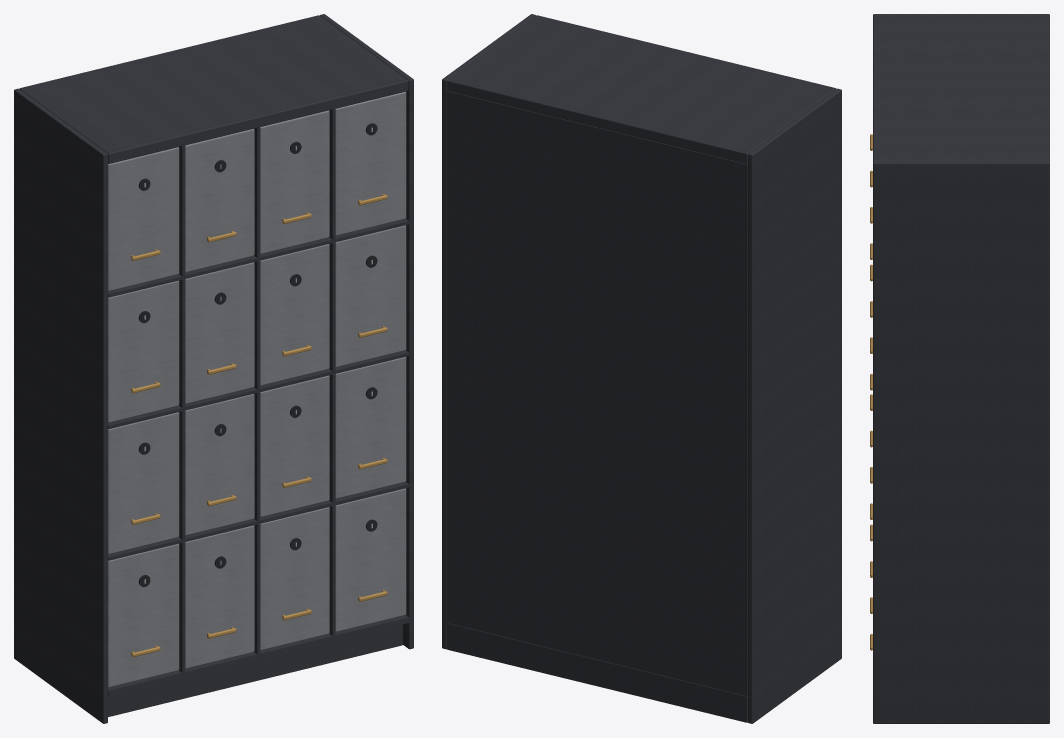
File: vault_shelving.glb
3 renders of one model, left to right at view 1: azimuth 30°, elevation 25°; view 2: azimuth 150°, elevation 25°; view 3: azimuth 270°, elevation 25°, orthographic.
Visible parts, largest first — view 1: part_frame_LOD0, part_box_1_LOD0, part_box_4_LOD0, part_box_13_LOD0, part_box_16_LOD0, part_box_8_LOD0, part_box_12_LOD0, part_box_5_LOD0, part_box_9_LOD0, part_box_2_LOD0, part_box_3_LOD0, part_box_15_LOD0 (+5 smaller); view 2: part_frame_LOD0; view 3: part_frame_LOD0.
Part boxes in pixels (bbox=[...]): part_frame_LOD0: bbox=[14, 14, 413, 723]; part_box_1_LOD0: bbox=[108, 147, 179, 291]; part_box_4_LOD0: bbox=[335, 91, 406, 235]; part_box_13_LOD0: bbox=[108, 543, 179, 687]; part_box_16_LOD0: bbox=[335, 488, 406, 632]; part_box_8_LOD0: bbox=[335, 225, 406, 367]; part_box_12_LOD0: bbox=[335, 357, 406, 498]; part_box_5_LOD0: bbox=[108, 280, 179, 422]; part_box_9_LOD0: bbox=[108, 412, 179, 554]; part_box_2_LOD0: bbox=[185, 128, 254, 272]; part_box_3_LOD0: bbox=[260, 110, 329, 254]; part_box_15_LOD0: bbox=[260, 507, 329, 650]; part_frame_LOD0: bbox=[442, 14, 841, 723]; part_frame_LOD0: bbox=[873, 14, 1049, 723].
Size of what is drawn, in the model's own units: 1.2 by 2.1 by 0.61.
6 materials, 5 textured.
